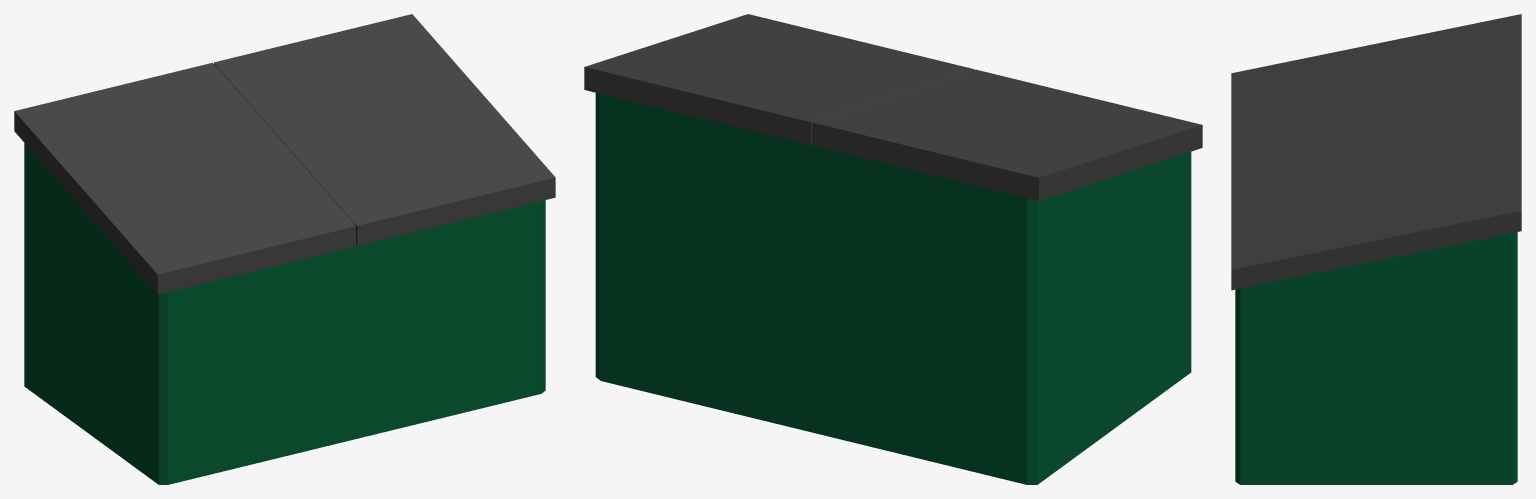
File: Trash_02.fbx
The picture shows the model from 3 angles, left to right: view 1: azimuth 30°, elevation 25°; view 2: azimuth 150°, elevation 25°; view 3: azimuth 270°, elevation 25°; orthographic projection. The views are drawn at different scales.
Parts seen in each view (by area): view 1: Trash_02; view 2: Trash_02; view 3: Trash_02.
Part boxes in pixels (x1,y1,x2,y2): Trash_02: [14, 14, 555, 484]; Trash_02: [584, 14, 1202, 484]; Trash_02: [1231, 14, 1521, 484].
Size of the model in its own units: 3.28 by 2.16 by 2.05.
